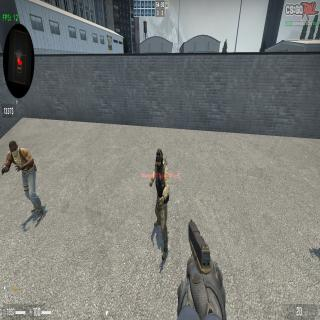CT-Body: (150, 148, 170, 261)
CT-Head: (156, 148, 163, 171)
T-Body: (2, 141, 44, 221)
T-Head: (9, 139, 19, 160)
